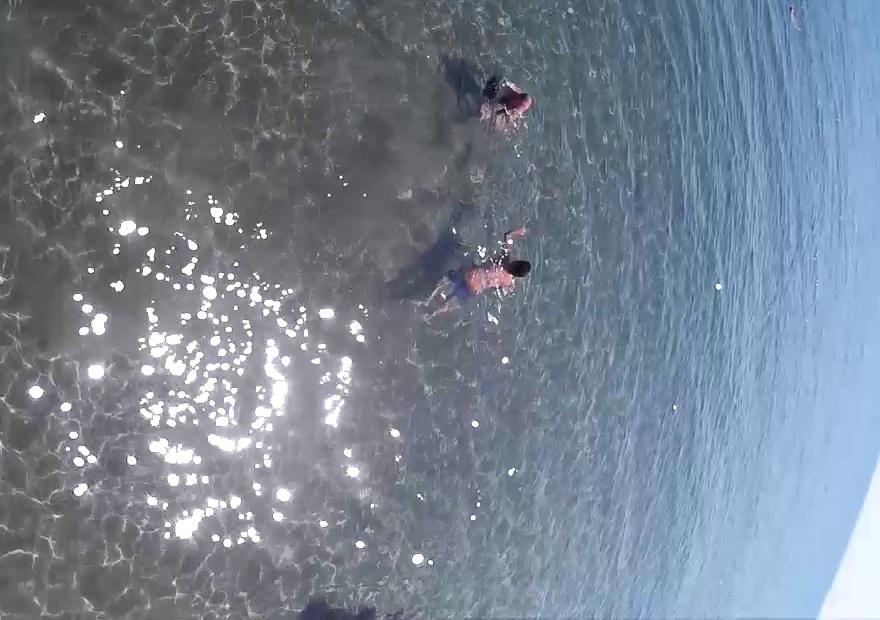swimmer: (416, 237, 540, 323), (469, 51, 547, 151)
